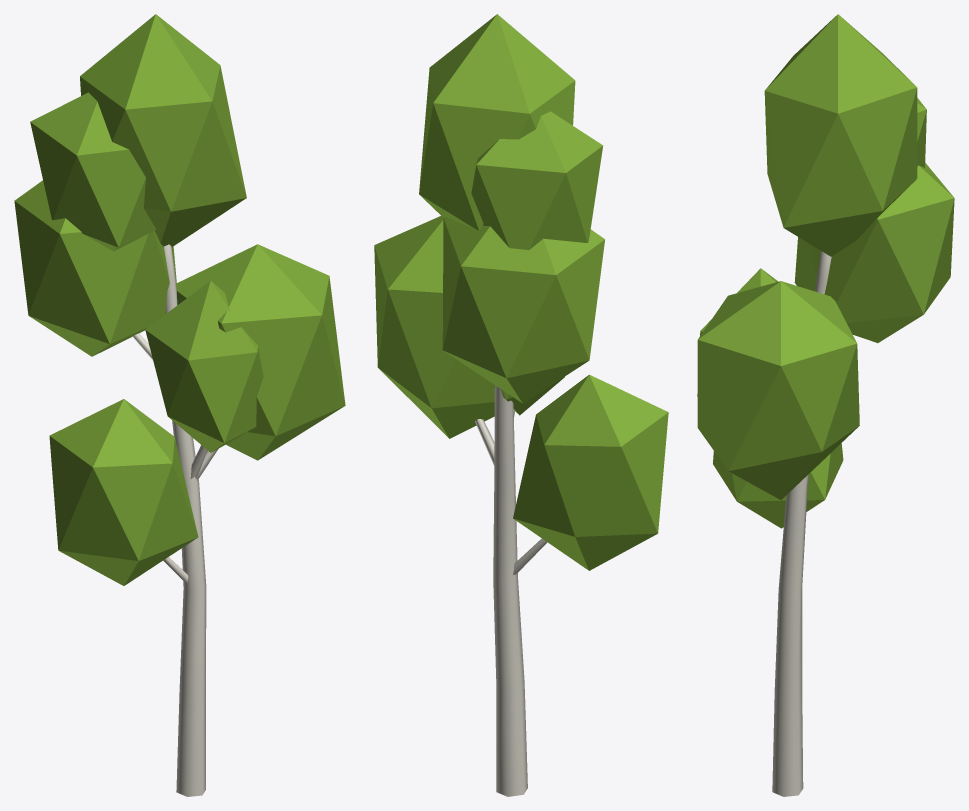
Rendered from birch.glb.
3 renders of one model, left to right at view 1: azimuth 30°, elevation 25°; view 2: azimuth 150°, elevation 25°; view 3: azimuth 270°, elevation 25°, orthographic. The views are drawn at different scales.
Visible parts, largest first — view 1: birch; view 2: birch; view 3: birch.
Boxes of the visible parts, x1,y1,x2,y2 form: birch: (14,14,345,796); birch: (374,14,668,796); birch: (697,14,954,796).
Bounding box in the file's own units: 2.81 × 7.54 × 2.28.
